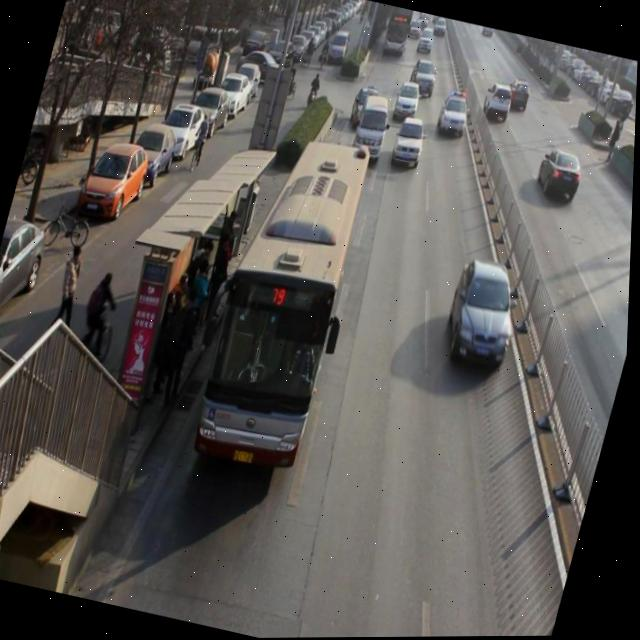car: (441, 262, 528, 372), (533, 146, 591, 208), (433, 87, 476, 143), (392, 119, 429, 168), (408, 57, 442, 101), (503, 77, 537, 119), (348, 88, 381, 129), (482, 80, 515, 121), (394, 80, 424, 122), (415, 27, 437, 55)
truck: (348, 90, 396, 163)
van: (187, 125, 378, 471), (379, 6, 413, 55)
